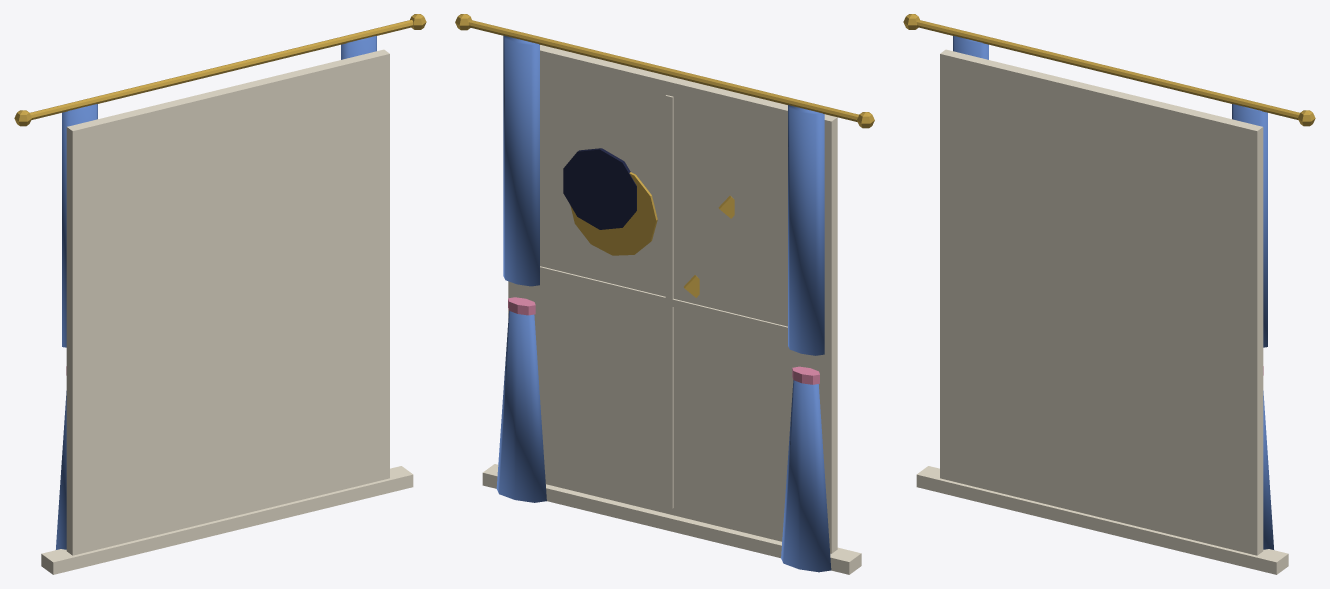
Rendered from cortina_ventana.glb.
The picture shows the model from 3 angles, left to right: view 1: azimuth 30°, elevation 25°; view 2: azimuth 150°, elevation 25°; view 3: azimuth 330°, elevation 25°; orthographic projection.
Parts seen in each view (by area): view 1: cortina_ventana; view 2: cortina_ventana; view 3: cortina_ventana.
Boxes of the visible parts, box(x1,y1,x2,y2) form: cortina_ventana: box(14, 14, 426, 574); cortina_ventana: box(455, 14, 874, 574); cortina_ventana: box(903, 14, 1315, 574).
Bounding box in the file's own units: 2.38 × 2.56 × 0.2084.
